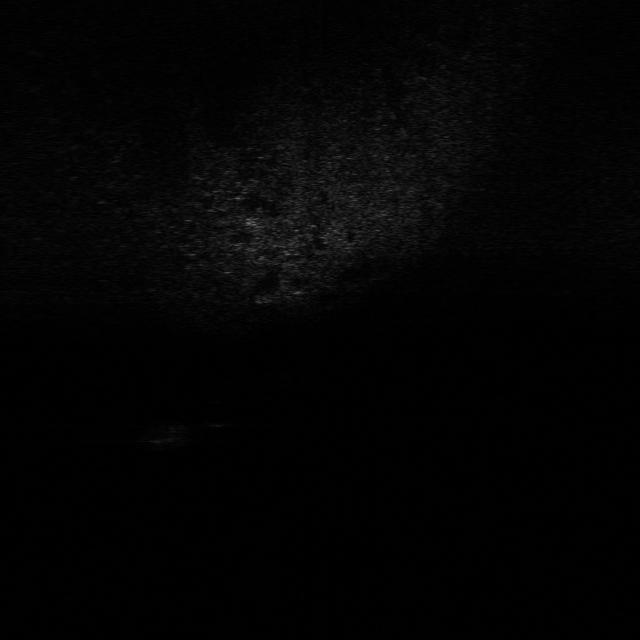ball: (203, 398, 242, 430)
circle cage: (128, 417, 201, 453)
